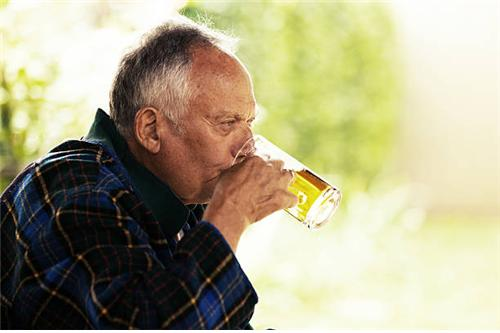alcohol: (232, 136, 338, 230)
